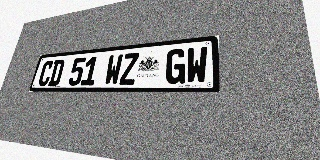1: (80, 56, 99, 85)
5: (68, 57, 86, 86)
C: (37, 60, 54, 86)
D: (48, 59, 65, 86)
G: (165, 48, 186, 84)
W: (185, 46, 208, 84), (104, 54, 123, 85)
Z: (119, 52, 139, 85)
